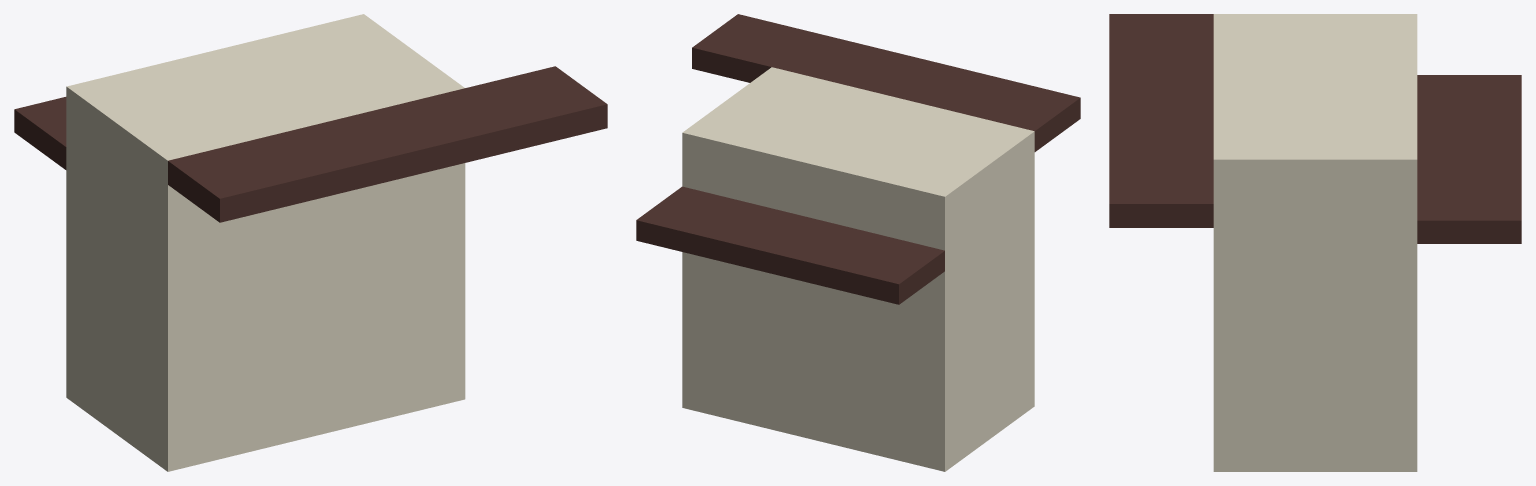
Rendered from cafe_countertop2_corner.glb.
The picture shows the model from 3 angles, left to right: view 1: azimuth 30°, elevation 25°; view 2: azimuth 150°, elevation 25°; view 3: azimuth 270°, elevation 25°; orthographic projection. The views are drawn at different scales.
Visible parts, largest first — view 1: countertop_corner; view 2: countertop_corner; view 3: countertop_corner.
Part boxes in pixels (left/top/right/bottom): countertop_corner: left=14, top=14, right=607, bottom=471; countertop_corner: left=636, top=14, right=1080, bottom=471; countertop_corner: left=1109, top=14, right=1521, bottom=471.
Bounding box in the file's own units: 1.31 × 1.01 × 1.2.
